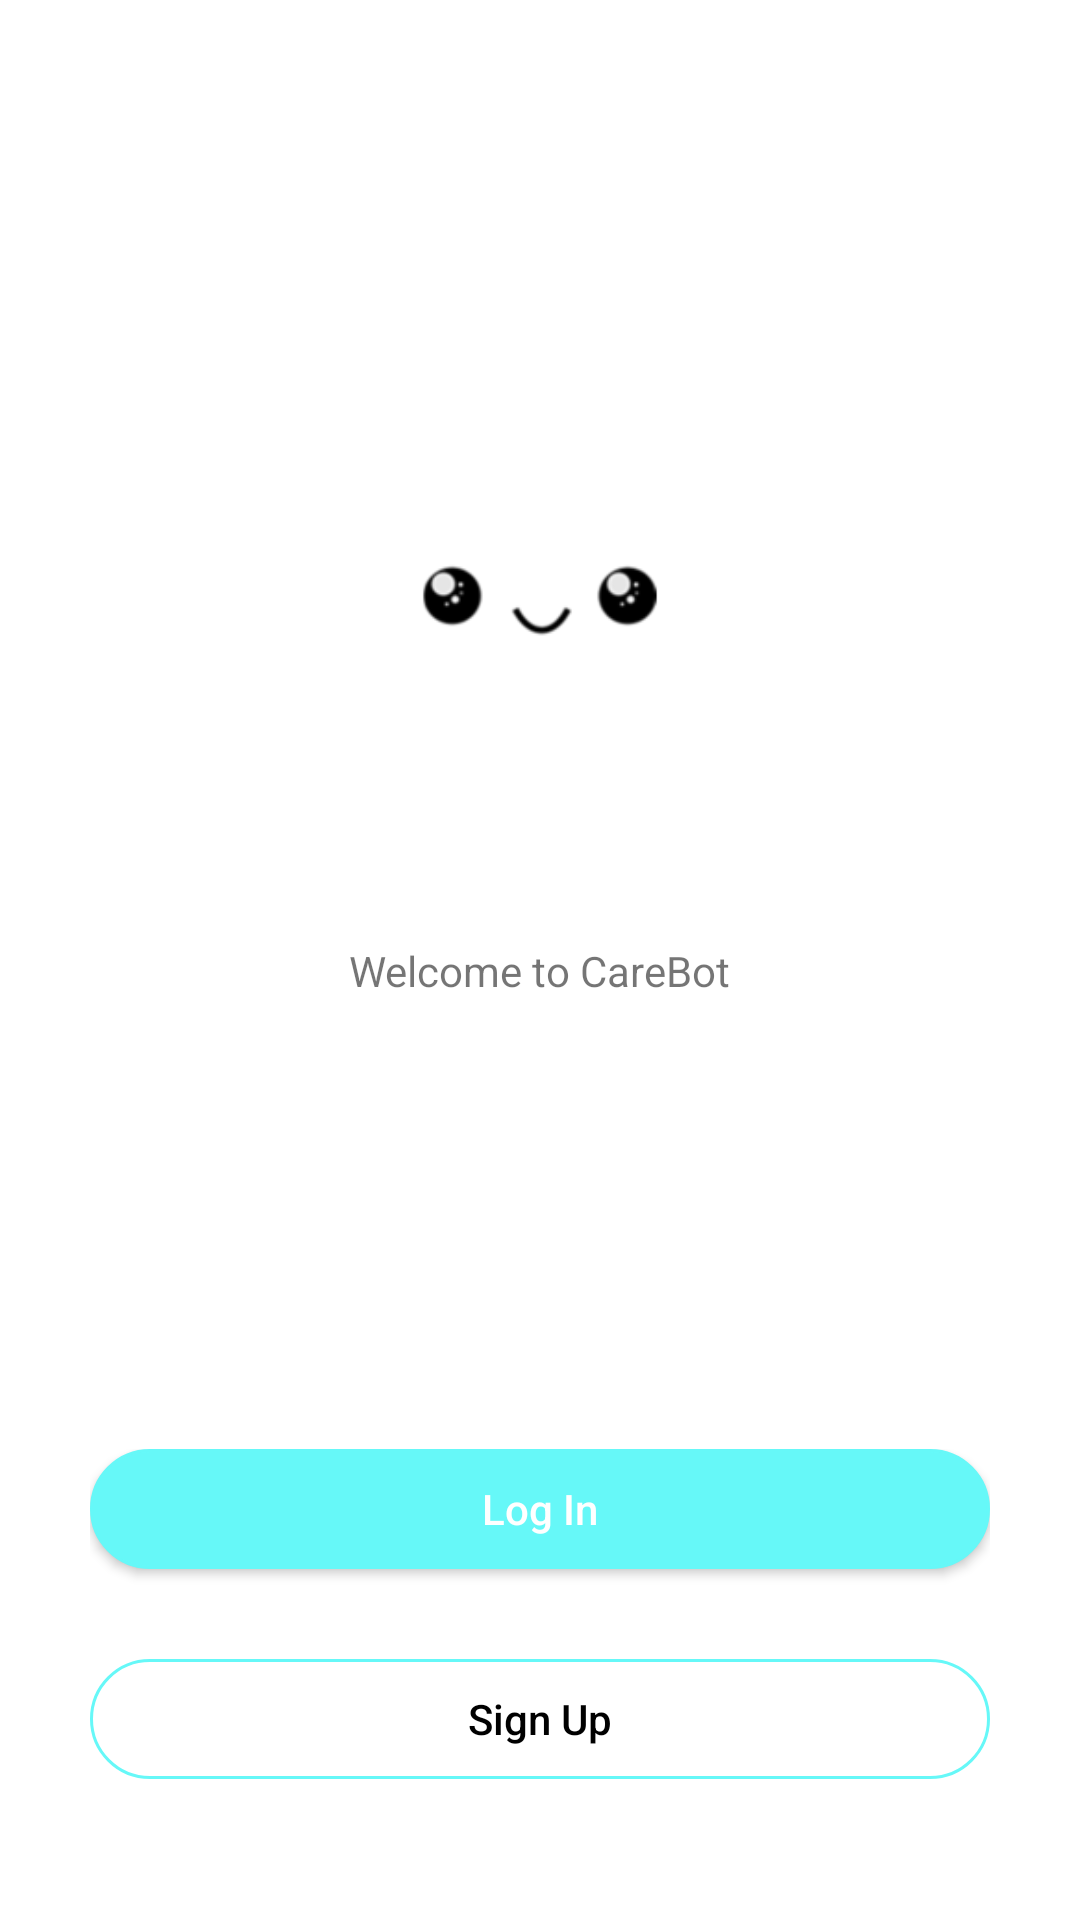

Screen size 1080*1920. Icon name, then its center in pixels as (x=x, y=y):
face: (x=540, y=600)
